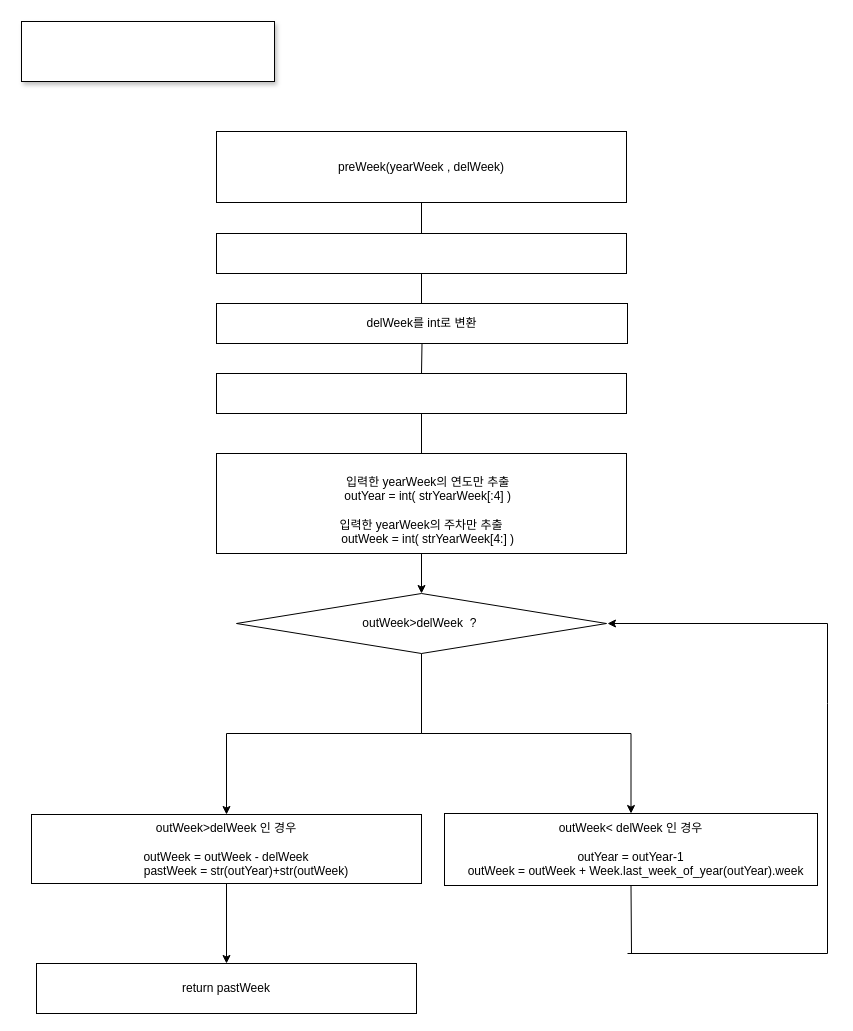
Some shapes in this 853 by 1031 pixel diagram are drawn without their labels. Each missing label, with the centre of its shape:
yearWeek를 str으로 변환: (421,253)
과거 주차를 출력하기 위한 변수 지정 pastWeek = "";: (421,393)
양윤재 [2023.04.19] 입력한 연도의 과거주차 계산하기: (148,52)
